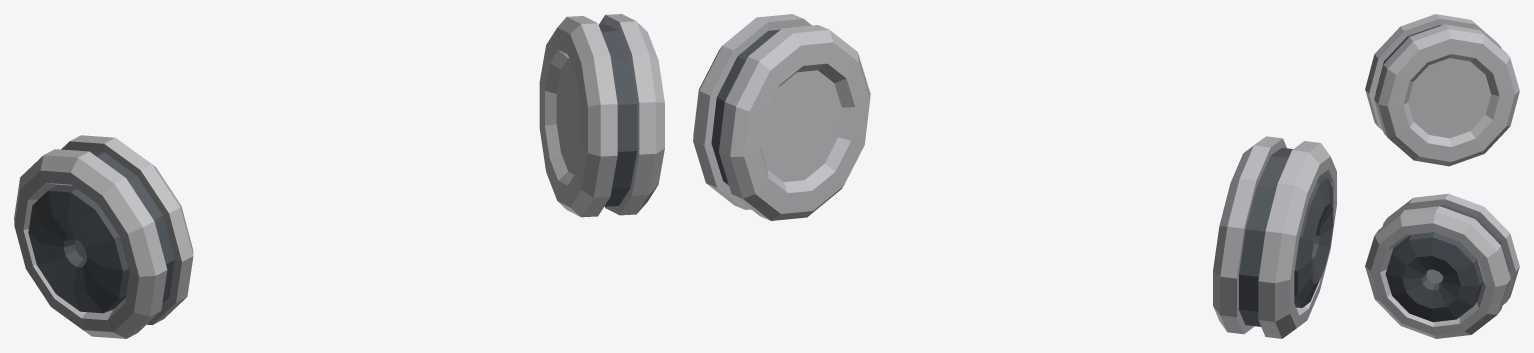
Rendered from Dropship_05_Ammo_Tanks.fbx.
3 views of the same model, side by side, from view 1: azimuth 30°, elevation 25°; view 2: azimuth 150°, elevation 25°; view 3: azimuth 270°, elevation 25° (orthographic). The views are drawn at different scales.
Visible parts, largest first — view 1: Dropship_05_Ammo_Tanks; view 2: Dropship_05_Ammo_Tanks; view 3: Dropship_05_Ammo_Tanks.
Boxes of the visible parts, x1,y1,x2,y2 form: Dropship_05_Ammo_Tanks: (14, 14, 664, 338); Dropship_05_Ammo_Tanks: (693, 14, 1336, 338); Dropship_05_Ammo_Tanks: (1365, 14, 1519, 338).
Size of the model in its own units: 405 by 118 by 124.
1 material, 1 textured.
